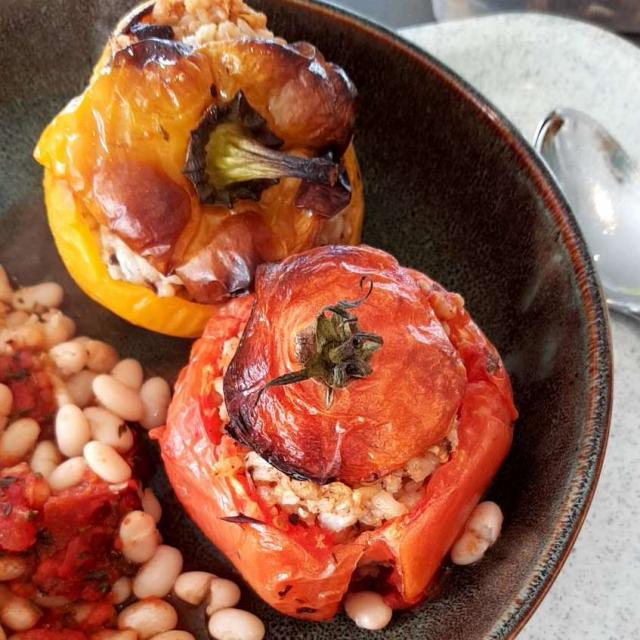bell-pepper-red-raw: (39, 6, 356, 332)
rice-whole-grain: (227, 422, 454, 531)
tomato-raw: (169, 252, 505, 625)
